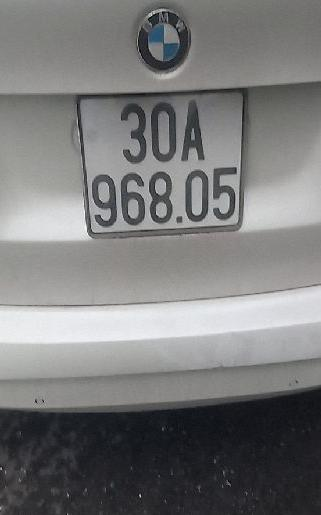Plate-iWeP: (87, 91, 242, 231)
